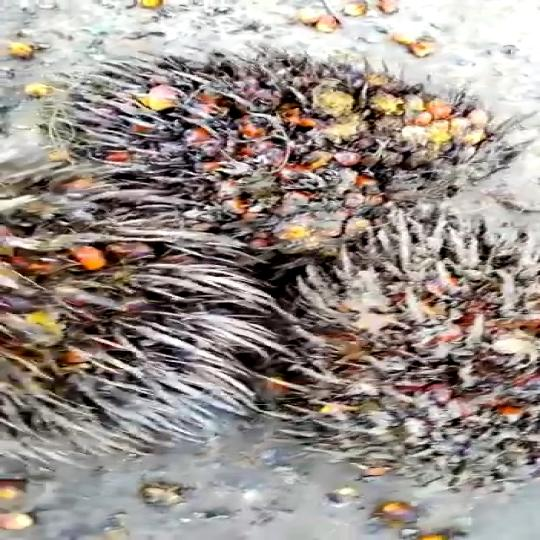terlalu masak: (54, 45, 502, 266), (279, 228, 540, 468)
